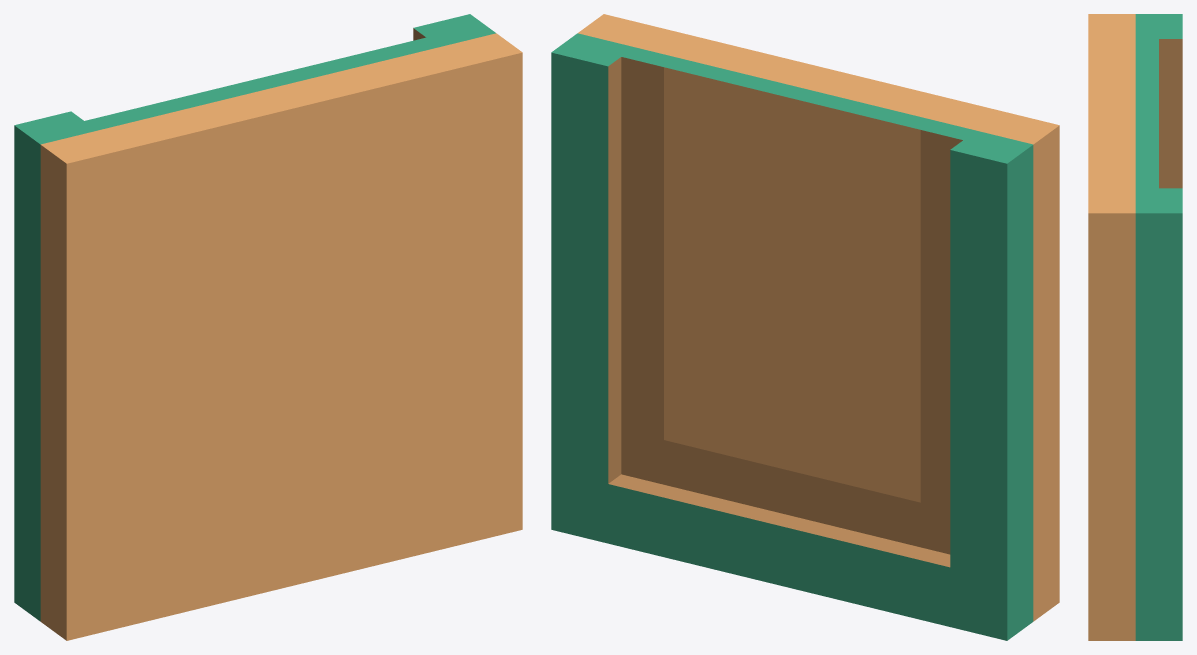
The model's file is tile_end.obj.
The picture shows the model from 3 angles, left to right: view 1: azimuth 30°, elevation 25°; view 2: azimuth 150°, elevation 25°; view 3: azimuth 270°, elevation 25°; orthographic projection. The views are drawn at different scales.
Visible parts, largest first — view 1: tile_end; view 2: tile_end; view 3: tile_end.
Part boxes in pixels (x1,y1,x2,y2): tile_end: [14, 14, 522, 640]; tile_end: [551, 14, 1059, 640]; tile_end: [1088, 14, 1182, 640].
Size of the model in its own units: 1 by 1 by 0.2.
